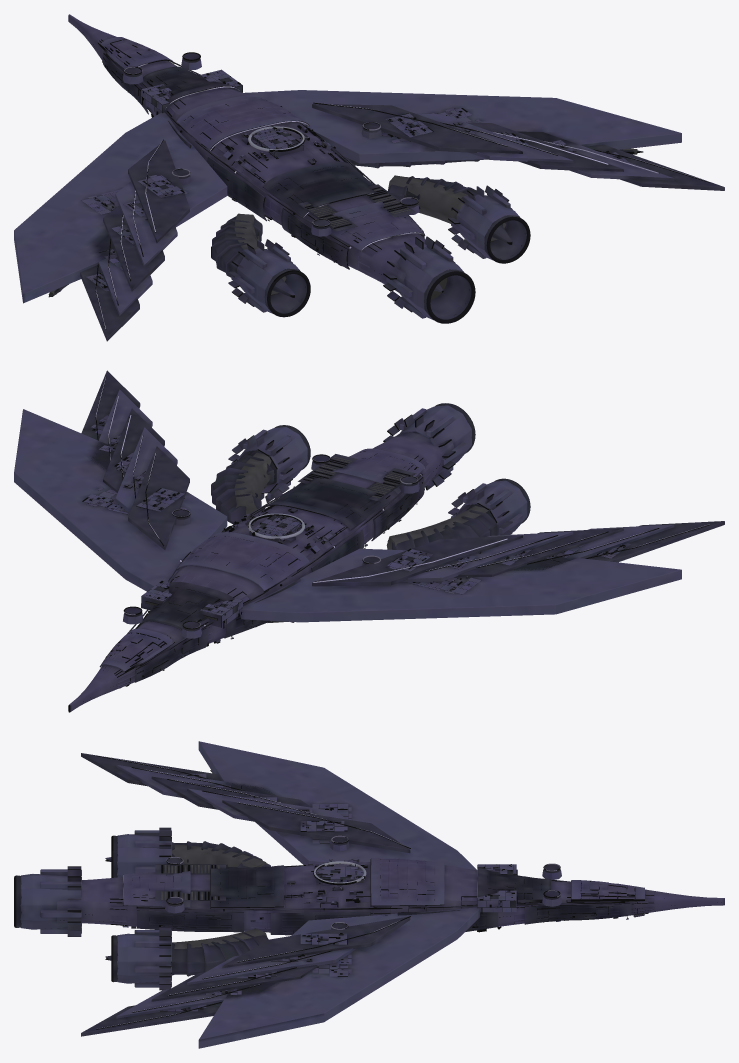
File: silent_meridian_hero.glb
3 renders of one model, top to bottom at view 1: azimuth 30°, elevation 25°; view 2: azimuth 150°, elevation 25°; view 3: azimuth 270°, elevation 25°, orthographic. The views are drawn at different scales.
Visible parts, largest first — view 1: HullBaked; view 2: HullBaked; view 3: HullBaked.
Part boxes in pixels (<box>): HullBaked: <box>14,14,724,341</box>; HullBaked: <box>14,370,724,712</box>; HullBaked: <box>14,741,724,1048</box>.
Bounding box in the file's own units: 900 × 95.32 × 905.
1 material, 1 textured.
